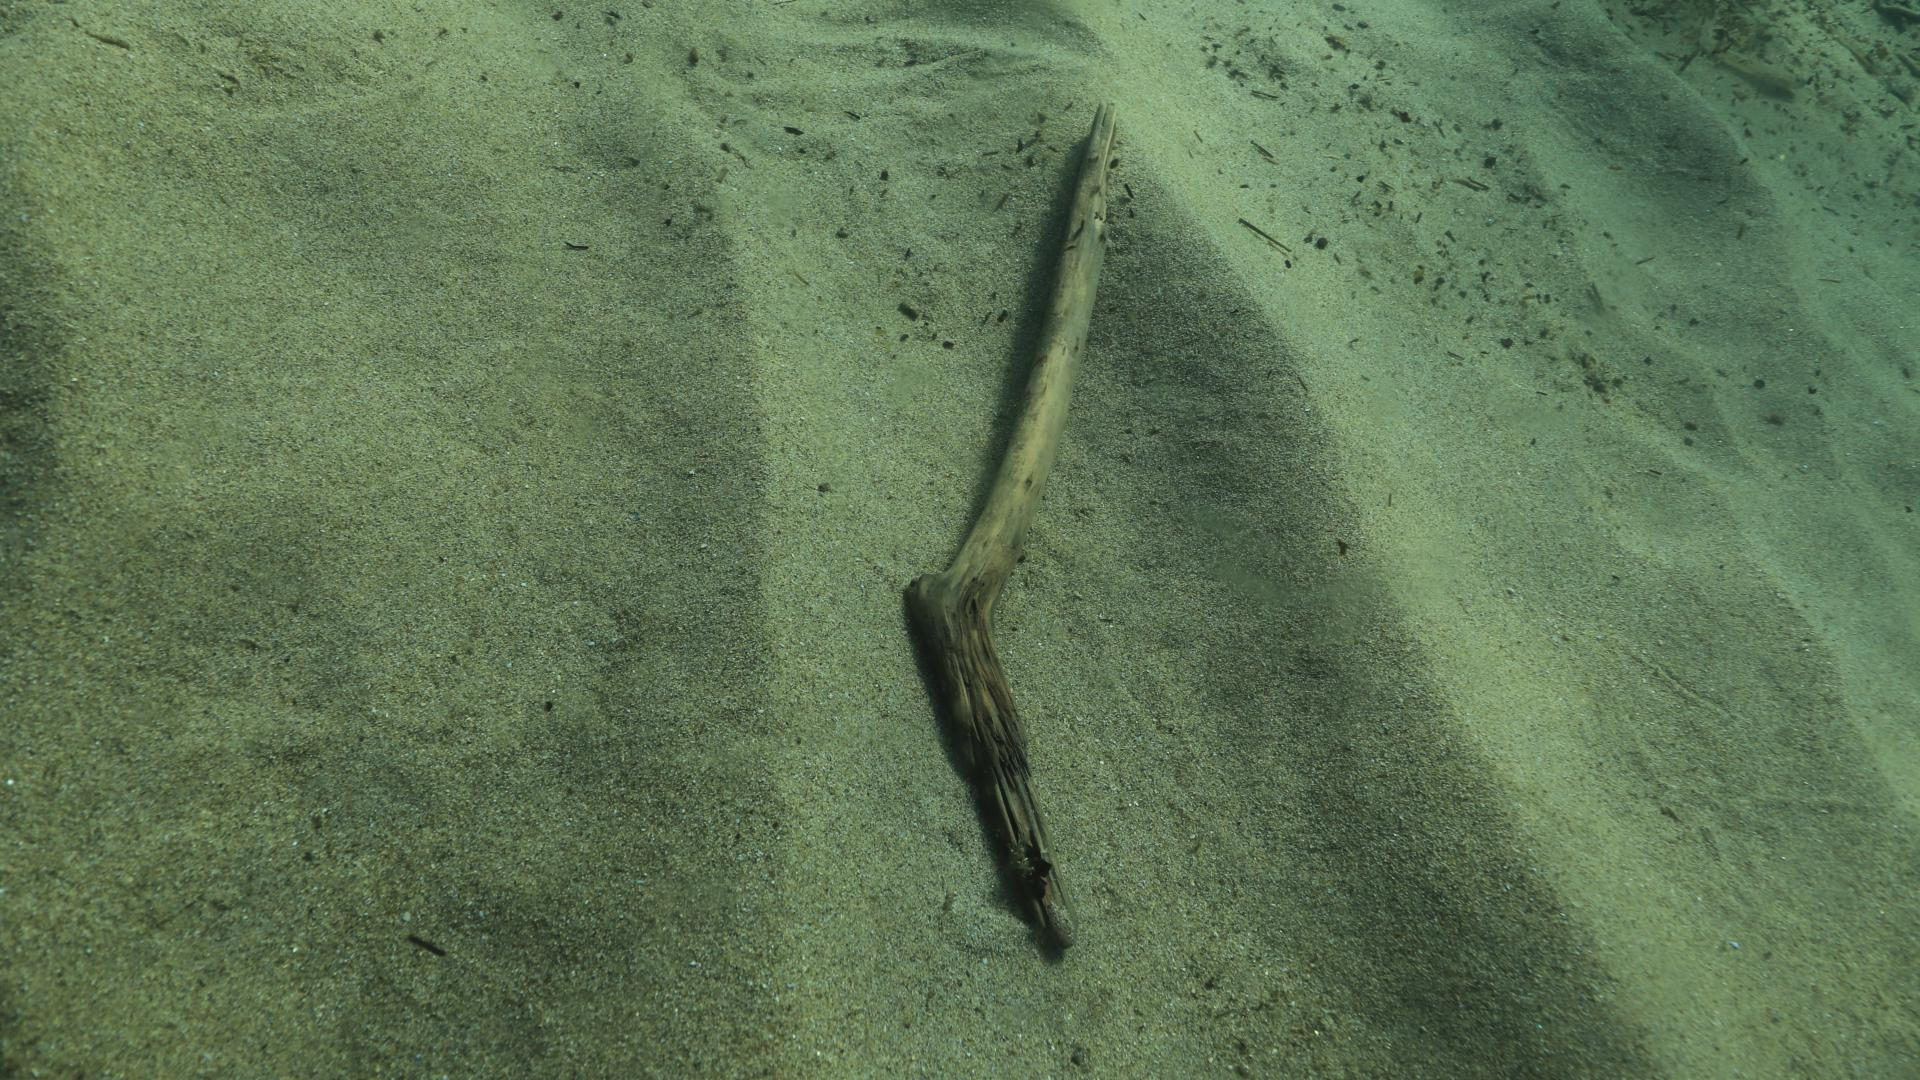wood: (903, 99, 1116, 951)
